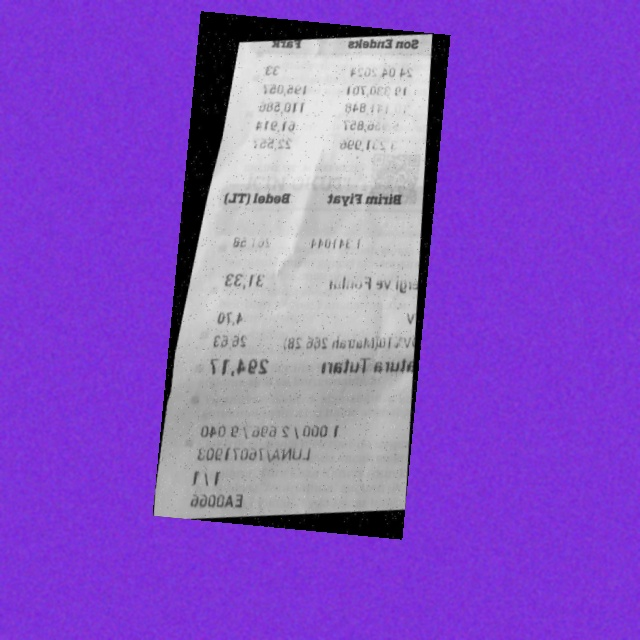electricity-bill: (153, 11, 451, 540)
